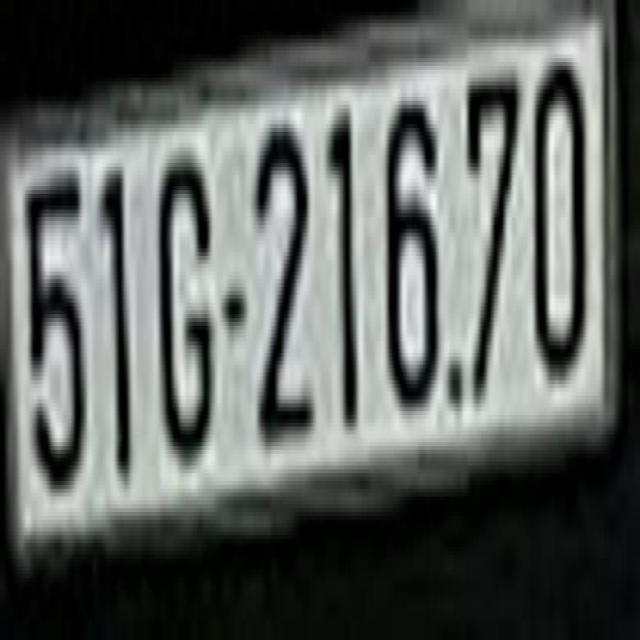0: (530, 39, 588, 392)
1: (94, 159, 136, 489), (322, 93, 363, 427)
2: (252, 109, 318, 450)
5: (20, 171, 84, 504)
6: (383, 89, 441, 419)
7: (464, 66, 520, 392)
G: (153, 140, 212, 473)
